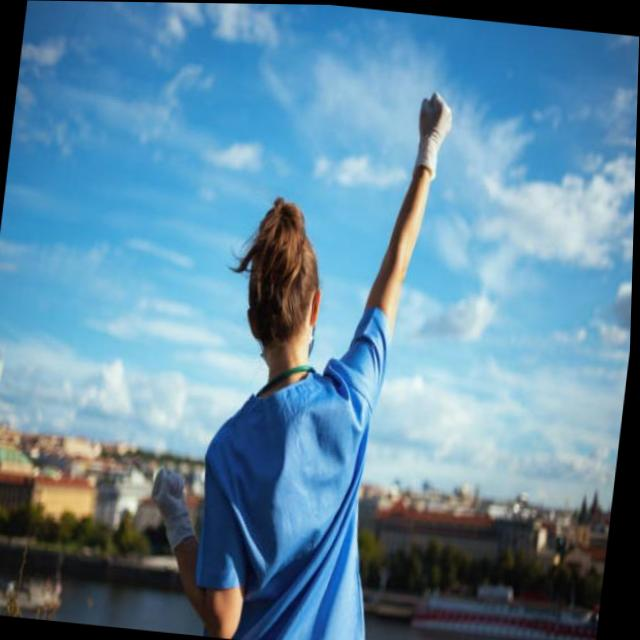no helmet: (220, 172, 356, 419)
